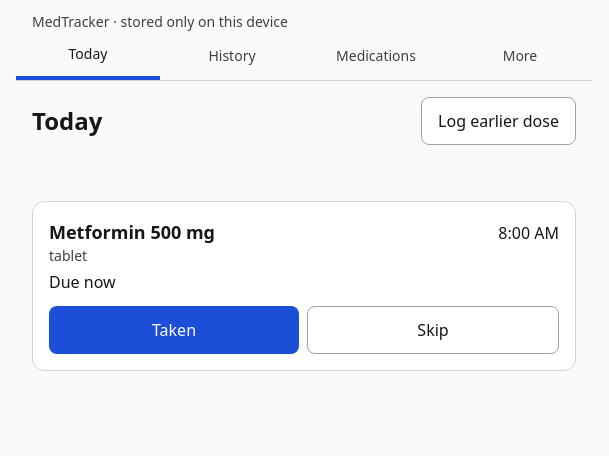
Undo vs permanent deletion › undone entries can be restored
This screenshot has width=609, height=456.
Click the button "Taken" at x=174, y=330, box 49,306 -> 299,354
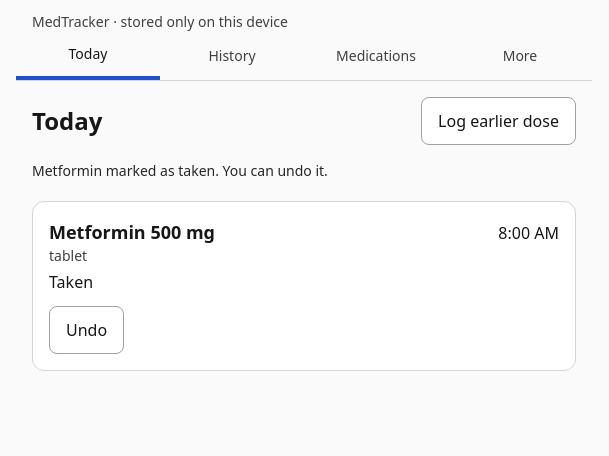
Click the tab "History" at x=232, y=56, box 160,32 -> 304,80
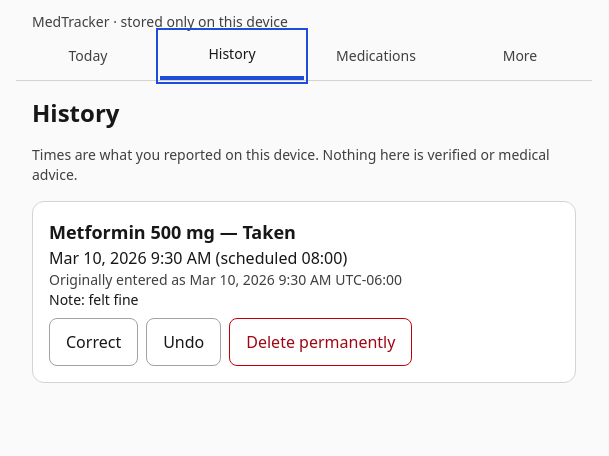
Now the text "Metformin 500 mg — Taken" is shown, box 49,220 -> 296,244
Click the button "Undo" at x=184, y=342, box 146,318 -> 221,366
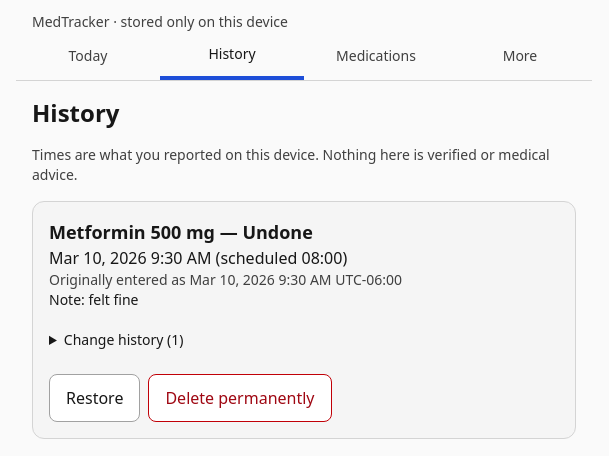
Now the text "Metformin 500 mg — Undone" is shown, box 49,220 -> 313,244
Click the button "Restore" at x=95, y=398, box 49,374 -> 140,422
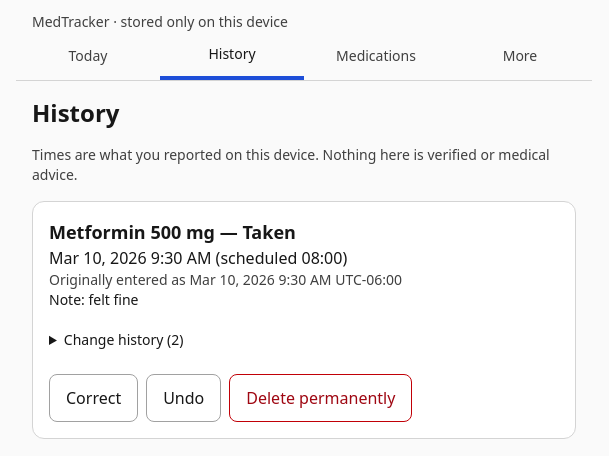
Now the text "Metformin 500 mg — Taken" is shown, box 49,220 -> 296,244
